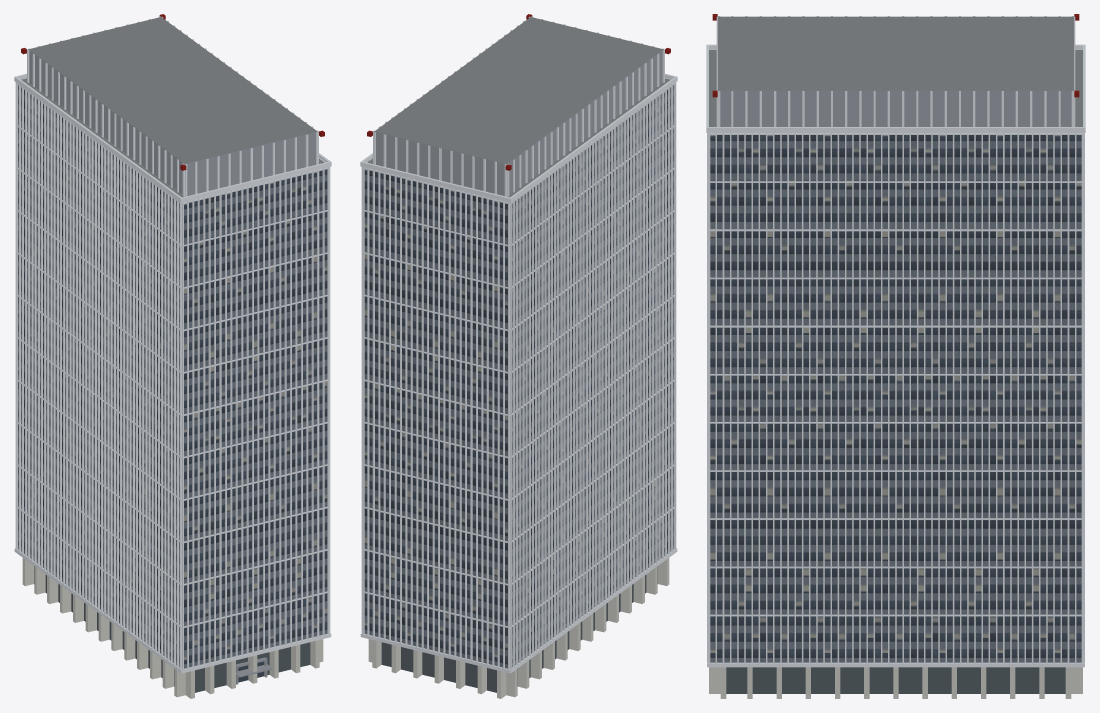
The model's file is kasumigaseki_building.glb.
3 views of the same model, side by side, from view 1: azimuth 30°, elevation 25°; view 2: azimuth 150°, elevation 25°; view 3: azimuth 270°, elevation 25° (orthographic). The views are drawn at different scales.
Parts seen in each view (by area): view 1: kasumigaseki_building; view 2: kasumigaseki_building; view 3: kasumigaseki_building.
Boxes of the visible parts, box(x1,y1,x2,y2) form: kasumigaseki_building: box(14, 14, 331, 698); kasumigaseki_building: box(360, 14, 677, 698); kasumigaseki_building: box(706, 14, 1085, 698).
Bounding box in the file's own units: 43.5 × 147 × 83.51.
Materials: 2 (2 with a texture image).
